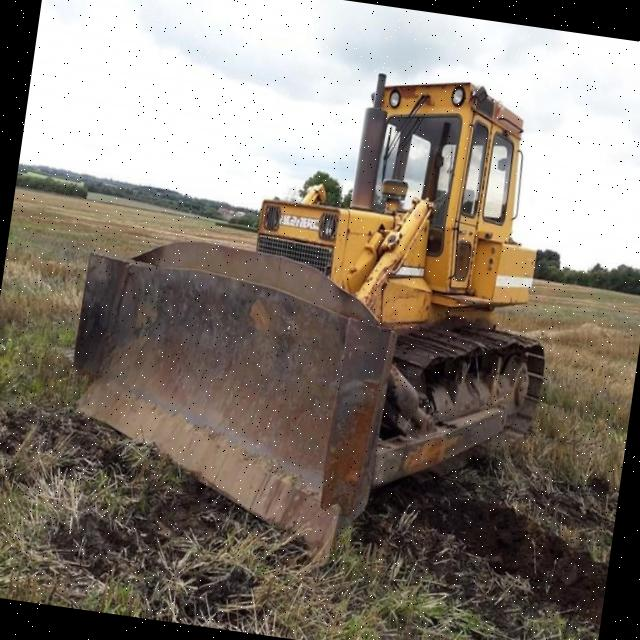Bulldozer: (11, 4, 622, 601)
